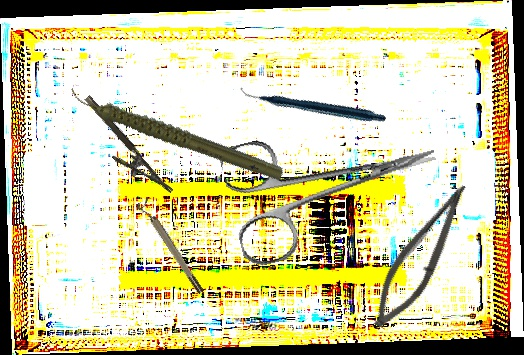Fixation Ring: (135, 197, 206, 298)
Handpiece: (65, 43, 288, 222), (238, 28, 388, 179)
Iris Scissors: (217, 99, 451, 270)
Micro Scissor: (362, 173, 478, 338)
Needle Holder: (71, 94, 174, 207)
